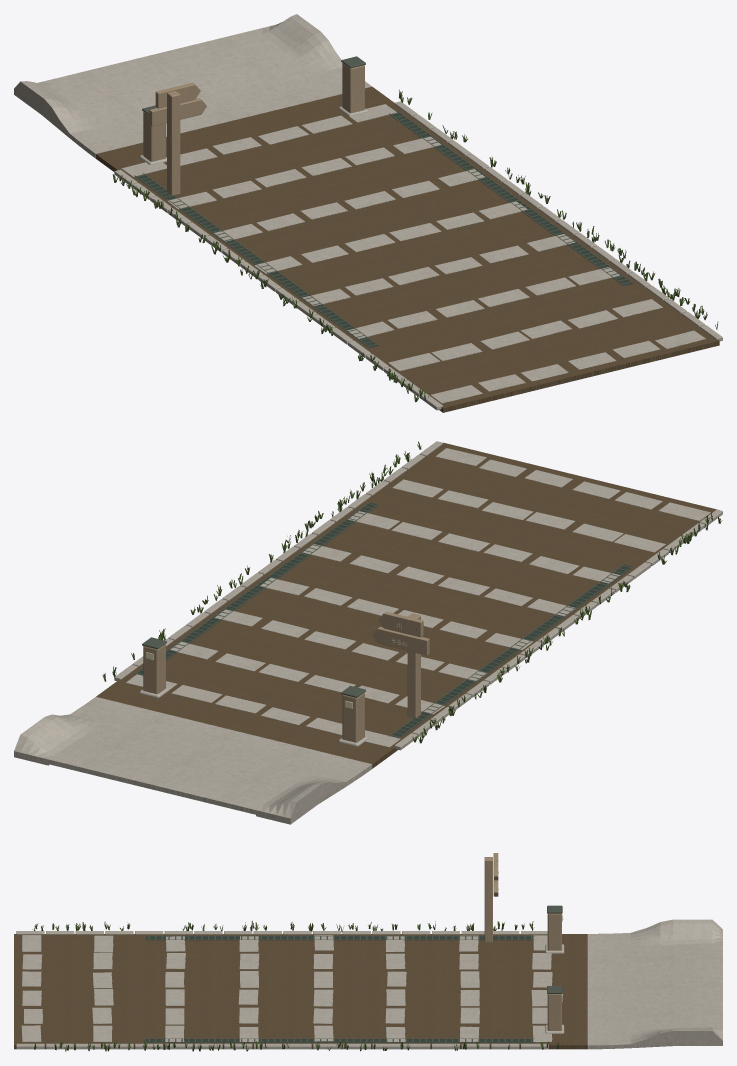
The model's file is connector-v9-lite.glb.
The picture shows the model from 3 angles, top to bottom: view 1: azimuth 30°, elevation 25°; view 2: azimuth 150°, elevation 25°; view 3: azimuth 270°, elevation 25°; orthographic projection. The views are drawn at different scales.
Parts seen in each view (by area): view 1: V9_Connector_static, V9_Connector_grass; view 2: V9_Connector_static, V9_Connector_grass; view 3: V9_Connector_static, V9_Connector_grass.
Boxes of the visible parts, <box> form: V9_Connector_static: <box>14,14,722,412</box>; V9_Connector_grass: <box>112,89,718,402</box>; V9_Connector_static: <box>14,441,722,824</box>; V9_Connector_grass: <box>102,441,722,743</box>; V9_Connector_static: <box>14,853,722,1049</box>; V9_Connector_grass: <box>32,921,558,1051</box>.
Size of the model in its own units: 4.48 by 1.46 by 10.75.
7 materials, 4 textured.
